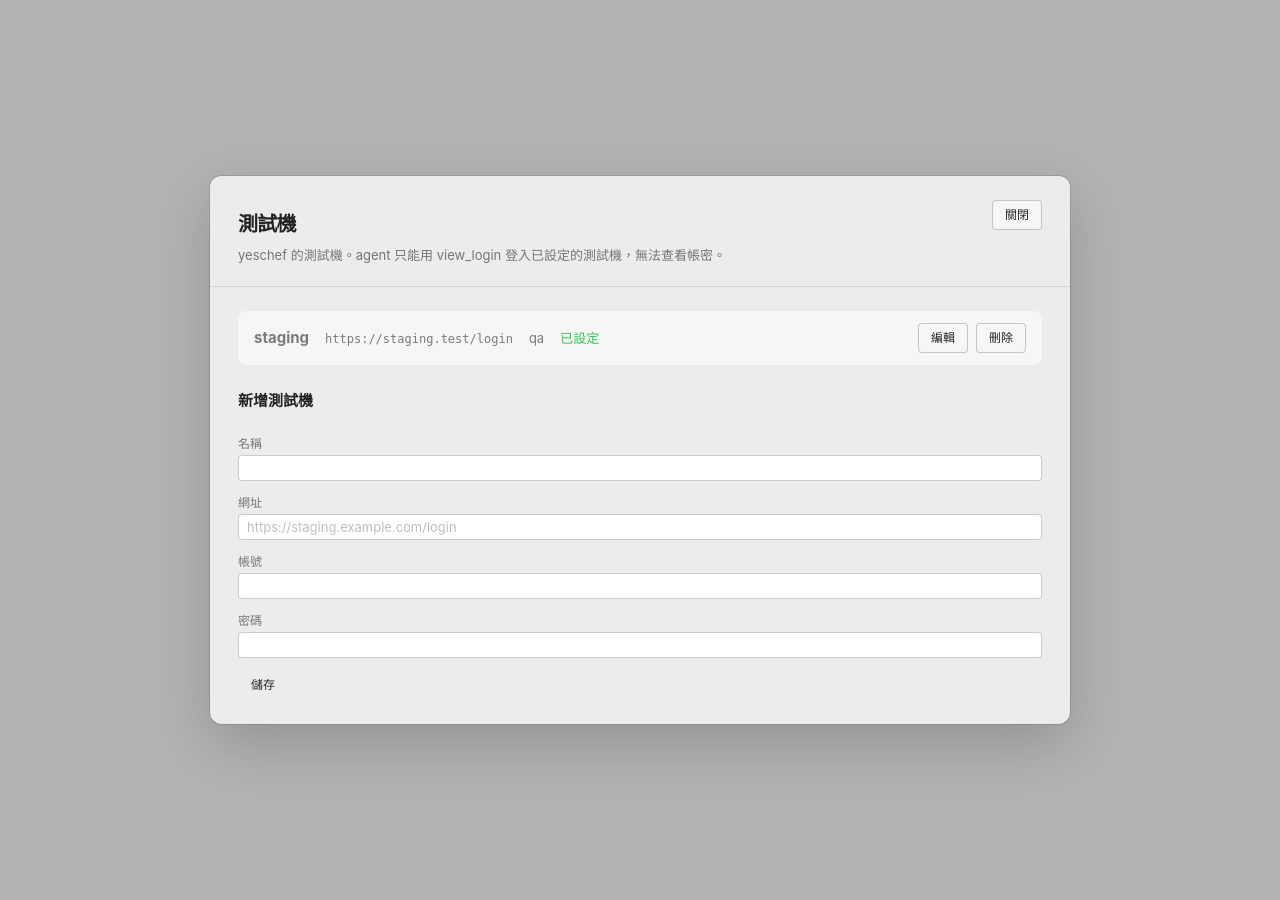
Scenario: TestMachinesManager › 編輯既有的會清掉上一次殘留的錯誤訊息
Expected: the heading "staging" is shown, [254,328,309,347]
Type "x" into the field labelled "名稱" at (640,468), box [238,455,1042,481]
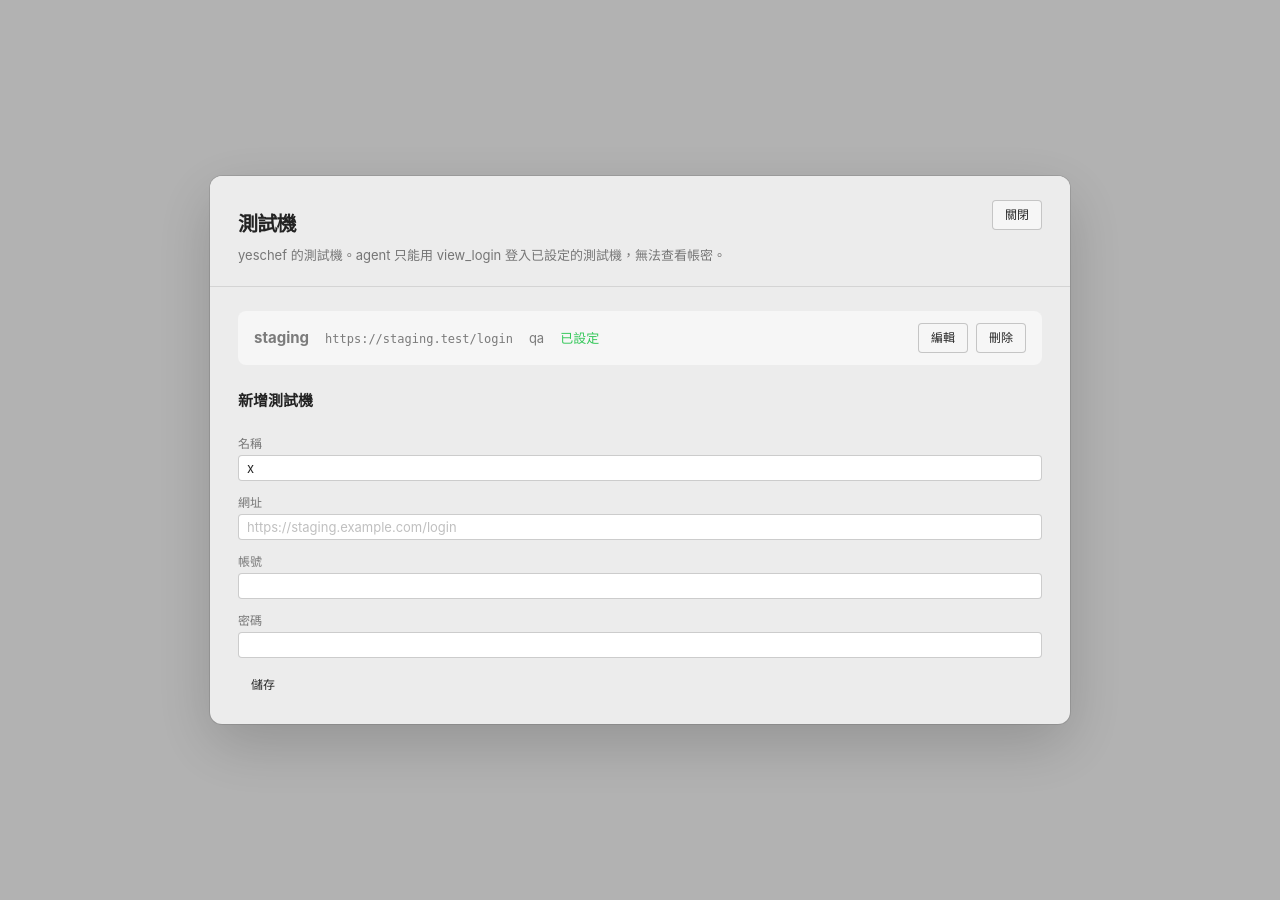
Type "https://x.test/" into the field labelled "網址" at (640,527), box [238,514,1042,540]
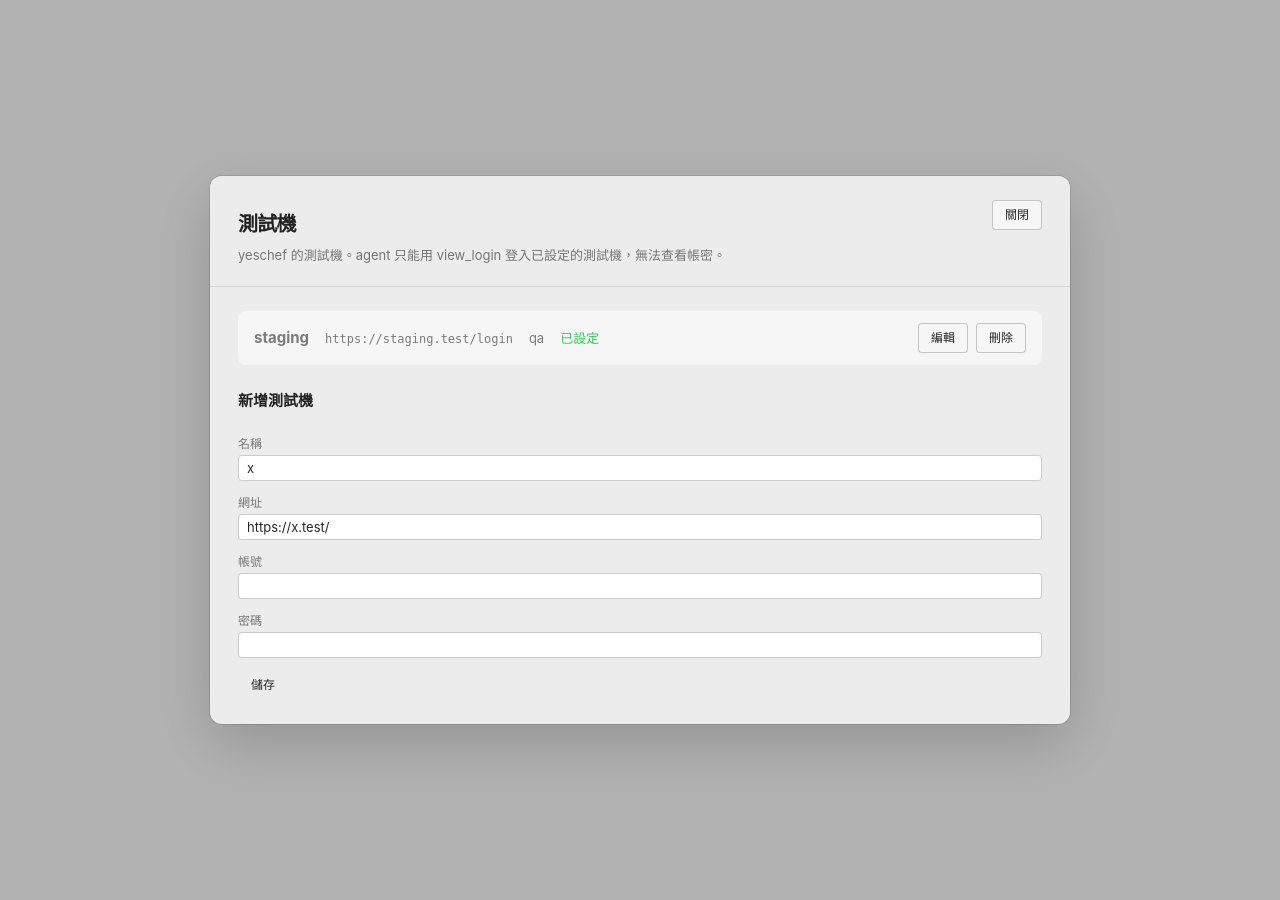
Type "u" into the field labelled "帳號" at (640,586), box [238,573,1042,599]
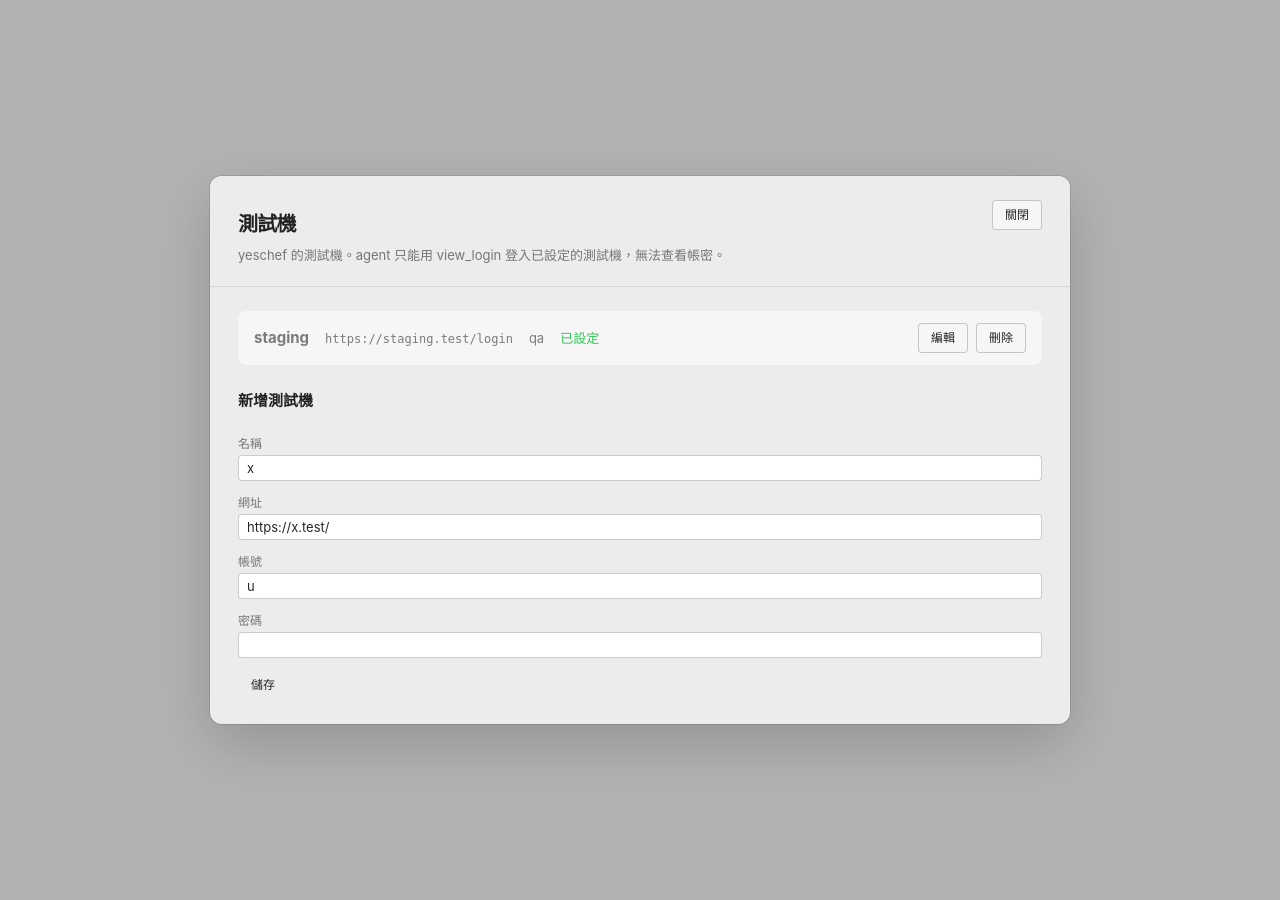
Click the button "儲存" at (263,685), box [238,670,288,700]
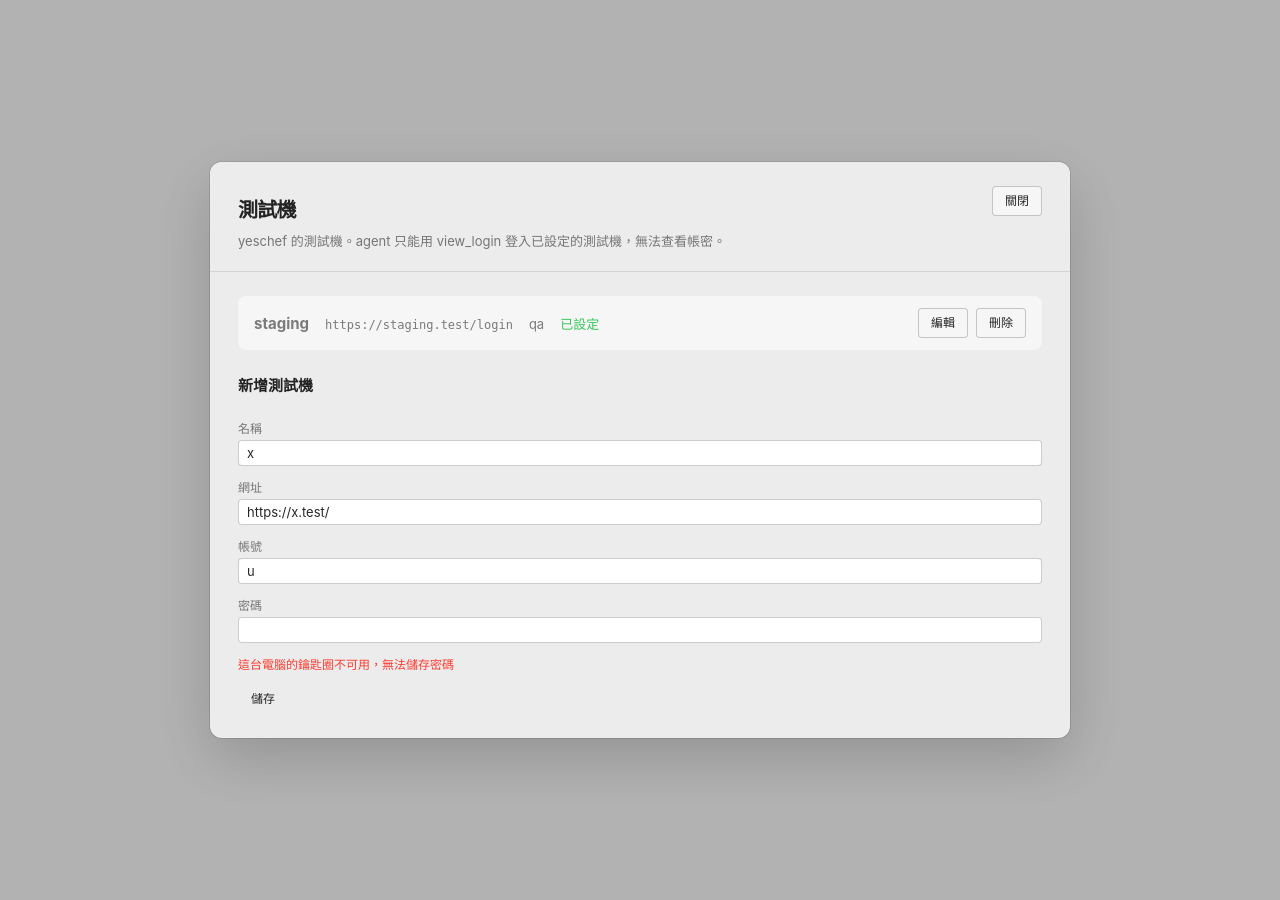
Now the message "這台電腦的鑰匙圈不可用，無法儲存密碼" is shown, box [238,657,454,672]
Click the button with aria-label "編輯 staging" at (943,323), box [918,308,968,338]
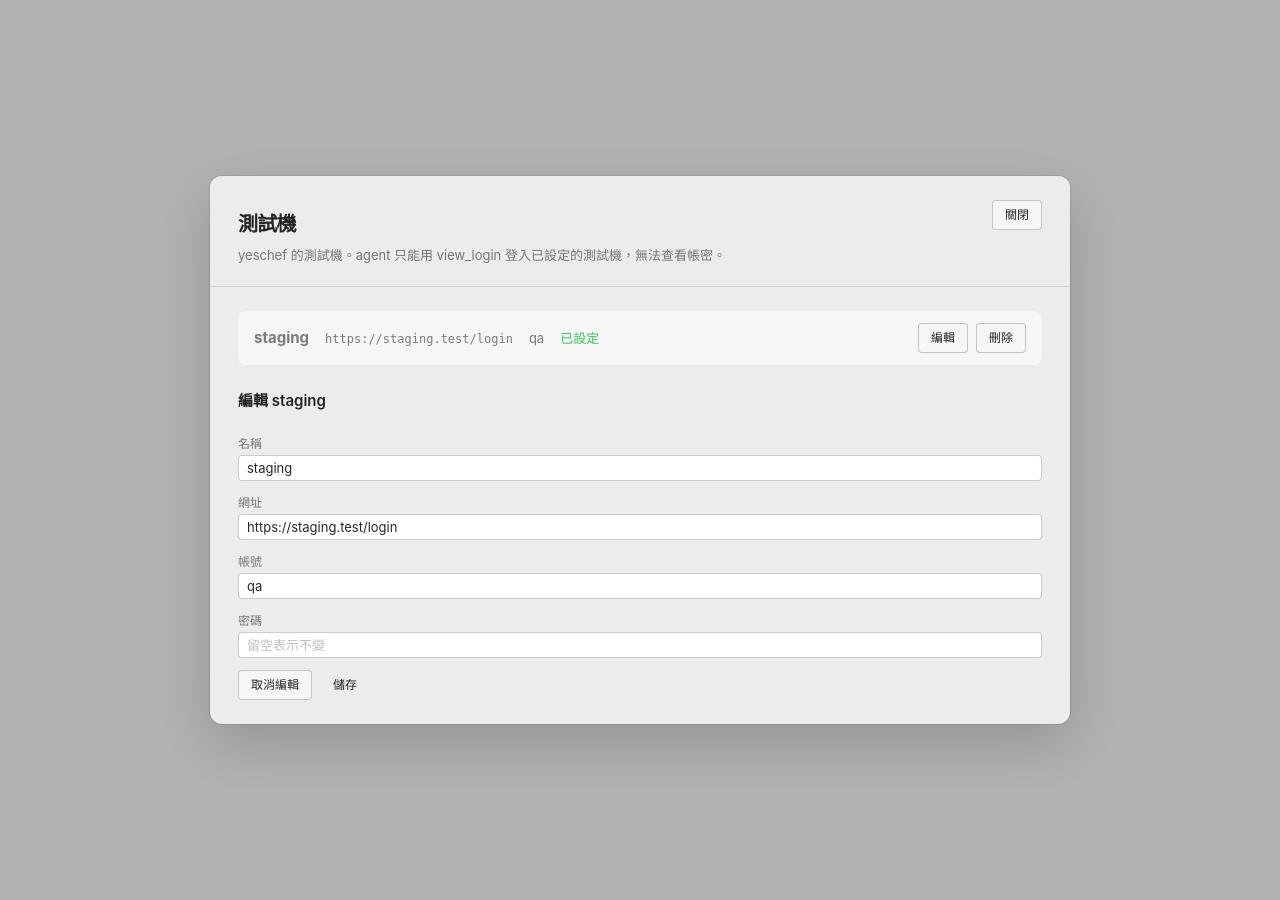
Now the message "這台電腦的鑰匙圈不可用，無法儲存密碼" is gone
